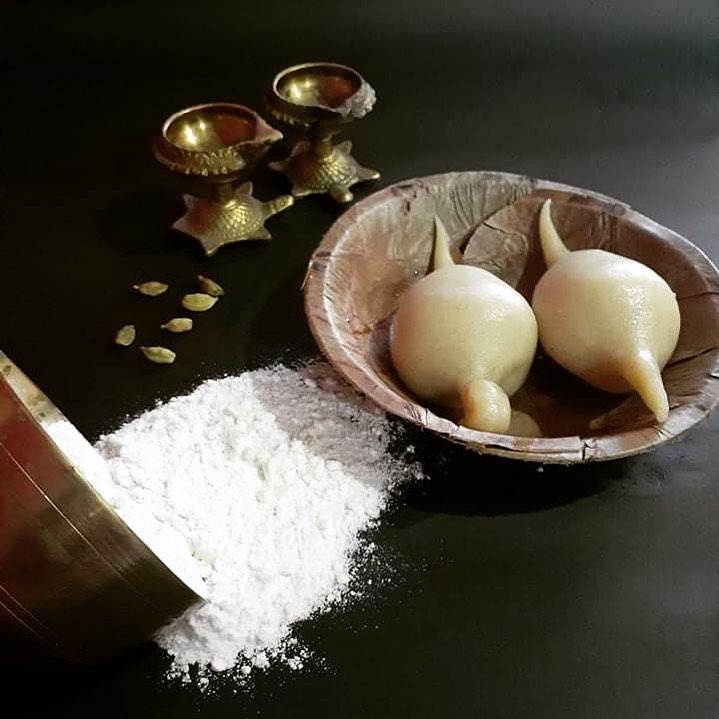yomari: (525, 203, 683, 428), (437, 247, 528, 440)
